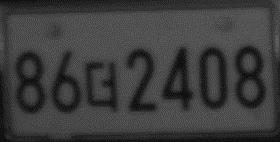0: (198, 46, 227, 110)
2: (124, 48, 157, 113)
4: (161, 45, 195, 110)
6: (49, 49, 82, 113)
8: (233, 45, 269, 109), (12, 50, 47, 114)
더: (83, 58, 120, 113)
